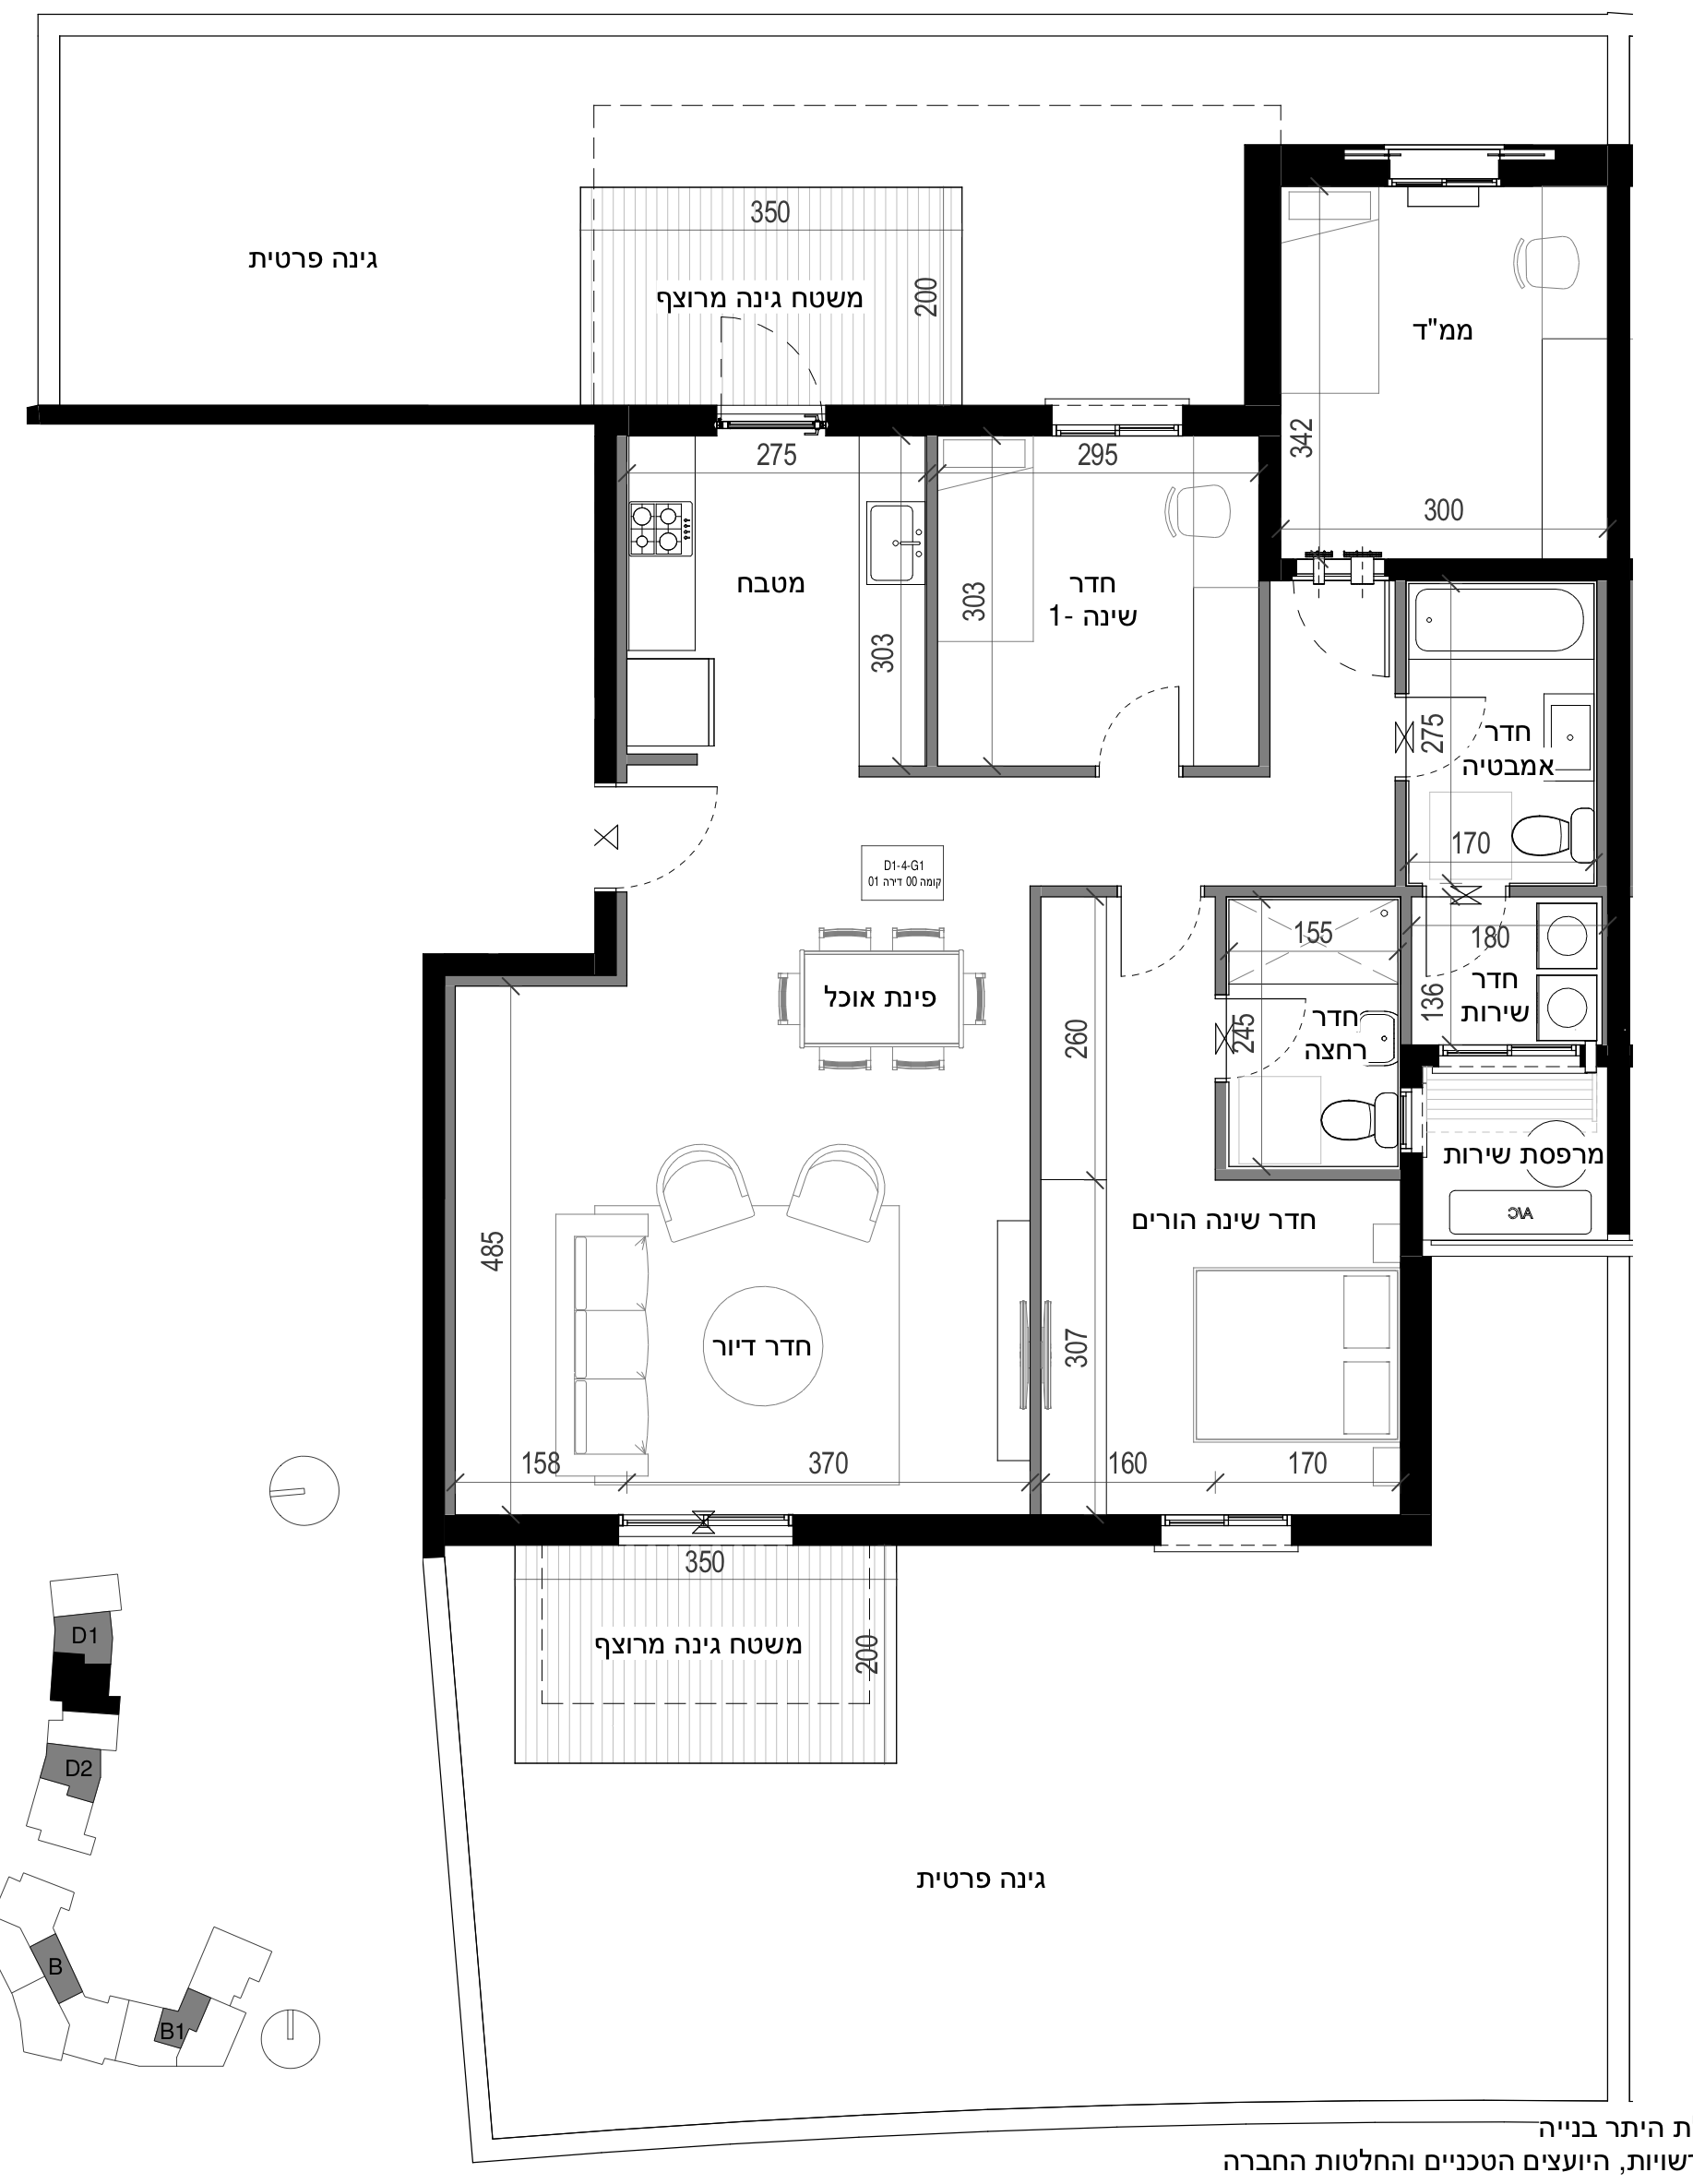door: (633, 775, 748, 890), (1110, 899, 1207, 994), (1229, 993, 1328, 1087), (1413, 690, 1512, 784), (1092, 668, 1190, 762)
wall: (1603, 145, 1633, 1064), (424, 954, 456, 1540), (592, 408, 626, 787), (25, 404, 592, 424)
window: (1159, 1512, 1292, 1558), (617, 1510, 787, 1546), (1051, 399, 1186, 441), (1439, 1042, 1592, 1069)
